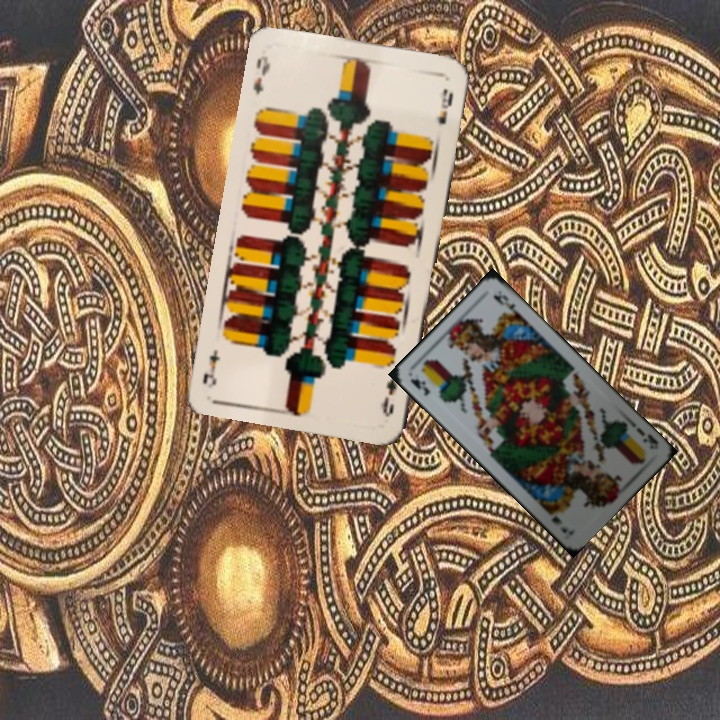E9: (249, 51, 273, 98), (378, 374, 400, 420)
EK: (633, 424, 661, 452), (407, 375, 432, 399)
